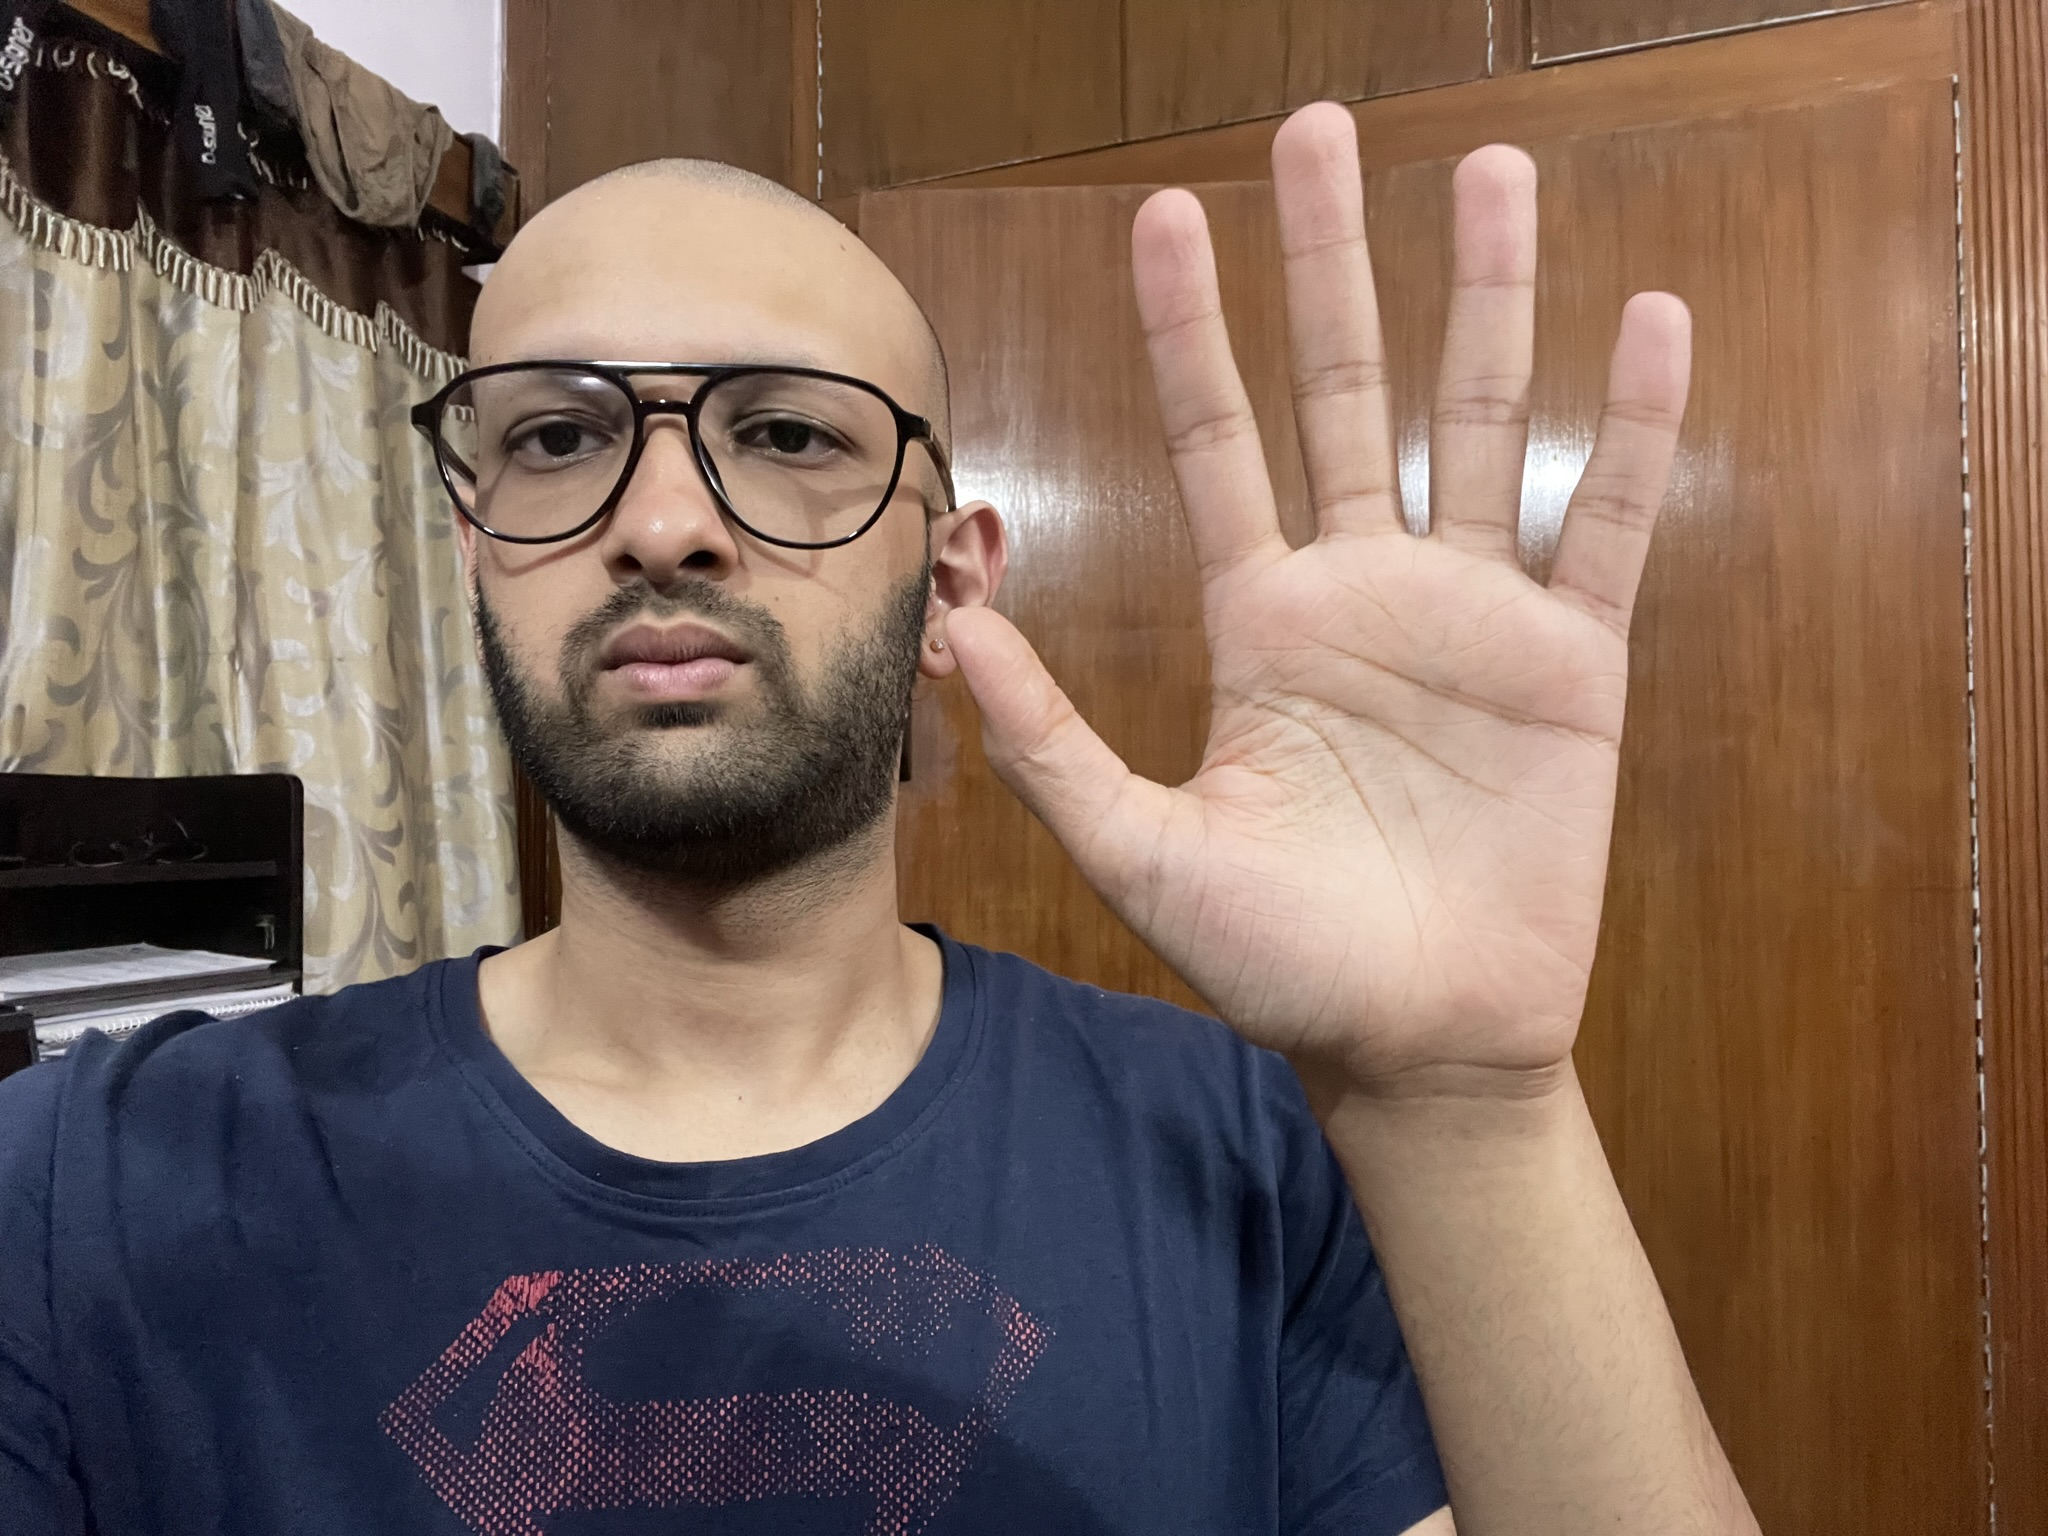Hello: (939, 82, 1709, 1120)
